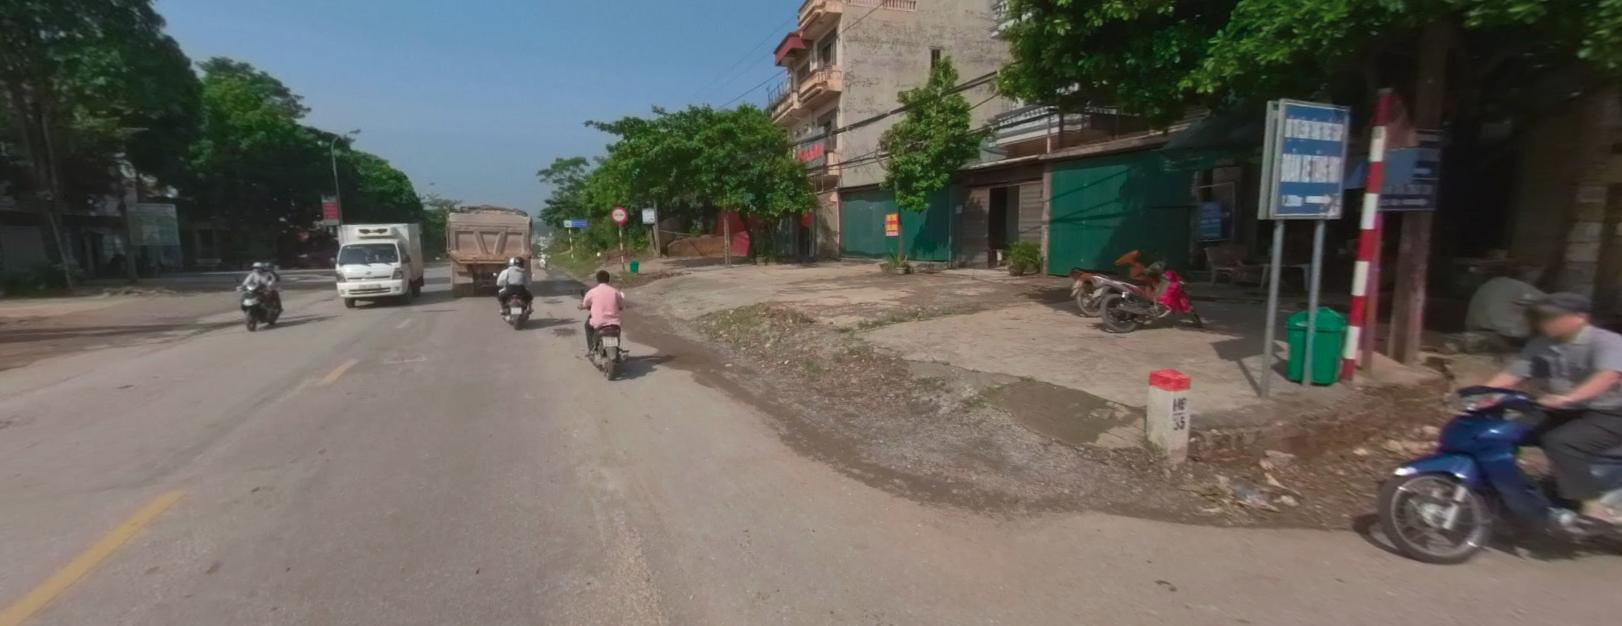Cam con lai: (609, 205, 626, 221), (611, 205, 627, 222)
